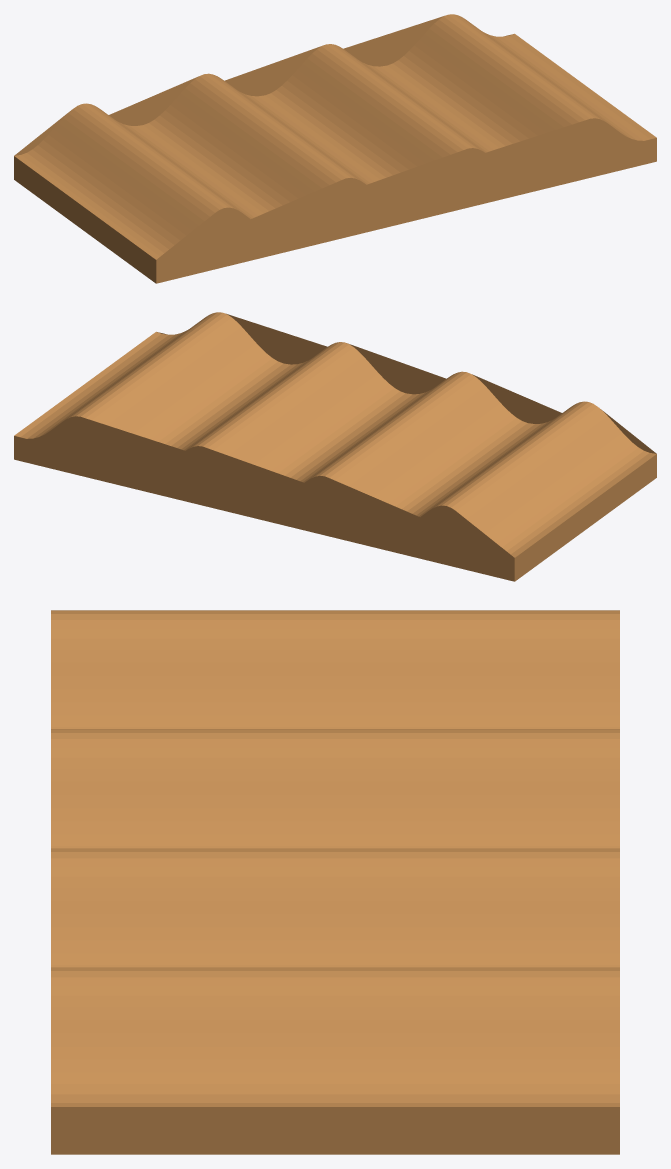
Rendered from sandpatch_waves.fbx.
The picture shows the model from 3 angles, top to bottom: view 1: azimuth 30°, elevation 25°; view 2: azimuth 150°, elevation 25°; view 3: azimuth 270°, elevation 25°; orthographic projection. The views are drawn at different scales.
Visible parts, largest first — view 1: sandpatch_waves; view 2: sandpatch_waves; view 3: sandpatch_waves.
Part boxes in pixels (x1,y1,x2,y2): sandpatch_waves: (14,14,656,283); sandpatch_waves: (14,312,656,581); sandpatch_waves: (51,610,619,1154).
Bounding box in the file's own units: 16.38 × 8.05 × 1.85.
